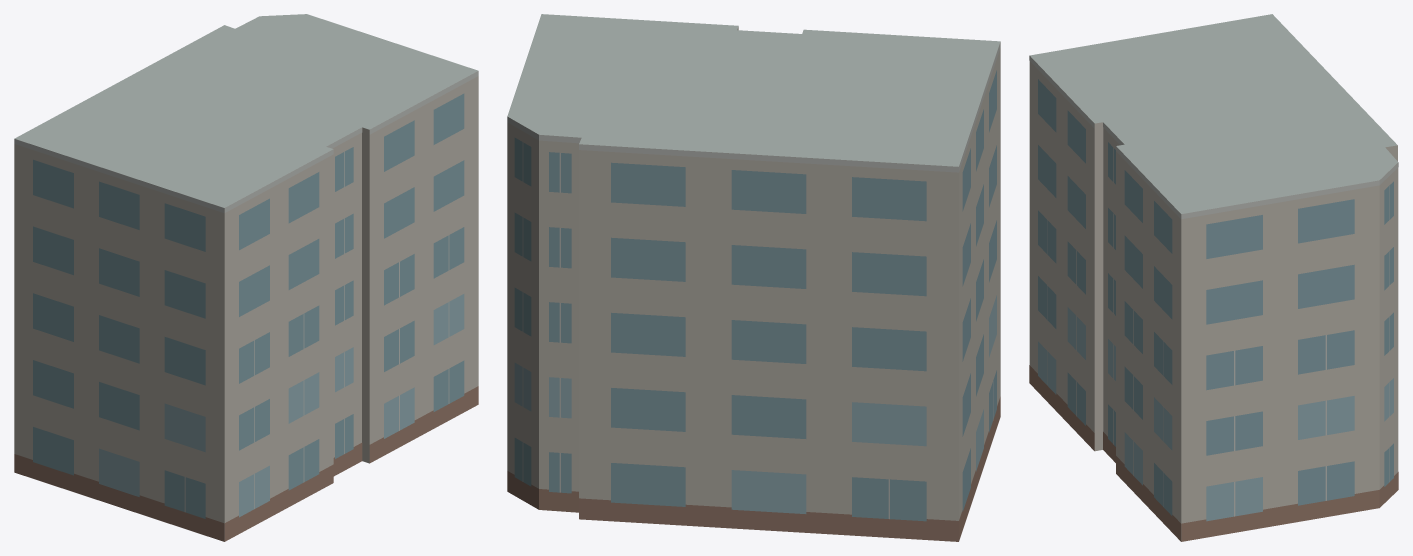
File: survey-upis-32581561.glb
3 renders of one model, left to right at view 1: azimuth 30°, elevation 25°; view 2: azimuth 150°, elevation 25°; view 3: azimuth 270°, elevation 25°, orthographic. The views are drawn at different scales.
Visible parts, largest first — view 1: survey-upis-32581561.tmp; view 2: survey-upis-32581561.tmp; view 3: survey-upis-32581561.tmp.
Part boxes in pixels (x1=…): survey-upis-32581561.tmp: x1=14, y1=14, x2=478, y2=541; survey-upis-32581561.tmp: x1=507, y1=14, x2=1000, y2=541; survey-upis-32581561.tmp: x1=1029, y1=14, x2=1398, y2=541.
Bounding box in the file's own units: 20.68 × 15.78 × 16.11.
